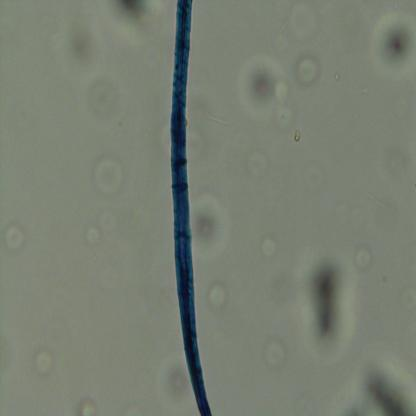Background material: (298, 249, 356, 364), (336, 340, 416, 414), (236, 53, 294, 128), (370, 9, 416, 82), (190, 195, 230, 262), (110, 0, 164, 41), (242, 144, 287, 181), (158, 352, 190, 404), (92, 156, 126, 198), (88, 77, 121, 118), (263, 334, 290, 369), (295, 55, 322, 88), (3, 220, 27, 254), (208, 280, 231, 314), (352, 242, 373, 274), (31, 350, 55, 378), (259, 236, 277, 262), (78, 394, 96, 414), (86, 226, 102, 248), (332, 68, 343, 80), (292, 130, 301, 144)
Cotton: (168, 0, 210, 416)
Glass filter fibre: (364, 190, 384, 209), (209, 114, 231, 126)
